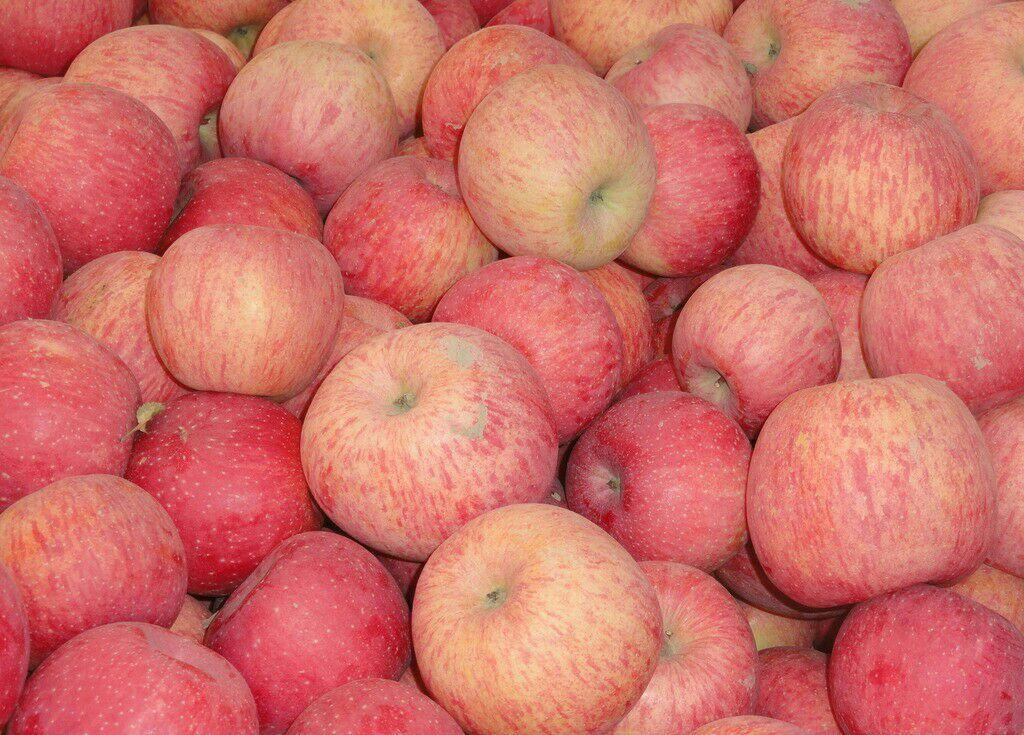apple: (6, 0, 1011, 712), (395, 429, 1024, 732), (12, 493, 420, 735), (743, 370, 998, 607), (3, 538, 233, 718), (205, 531, 412, 729), (123, 388, 318, 596), (0, 473, 189, 669), (787, 582, 1019, 732), (666, 262, 844, 437), (7, 618, 258, 733), (0, 323, 140, 510), (0, 179, 63, 325)
